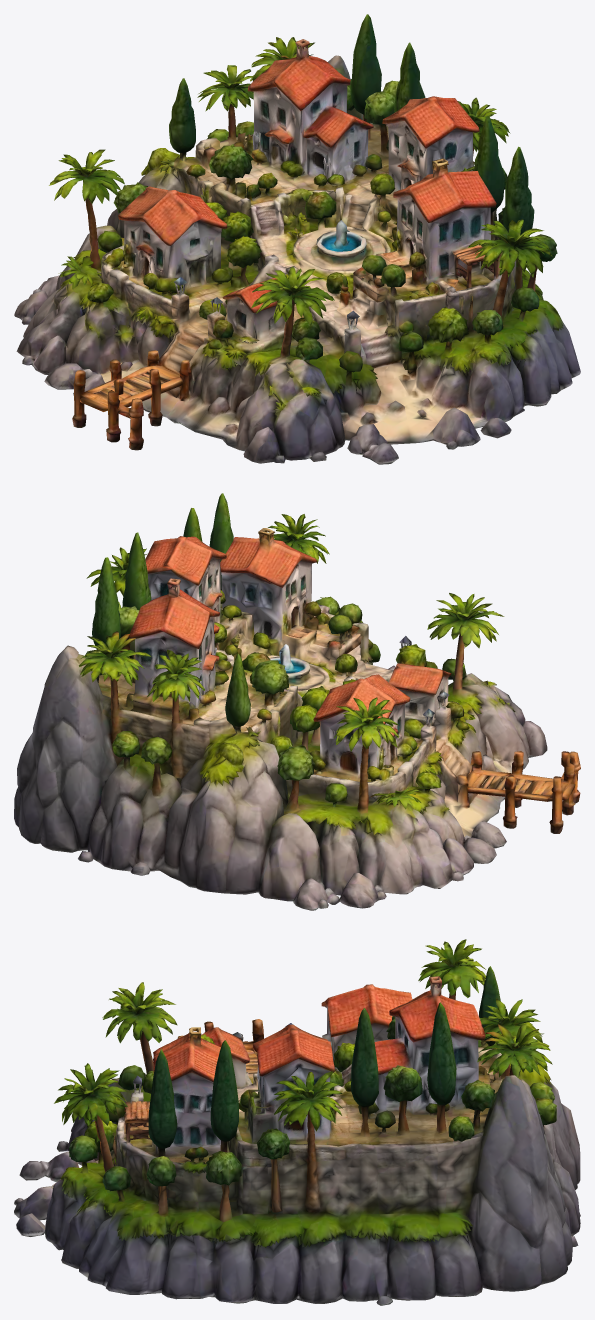
File: pmes.glb
3 renders of one model, top to bottom at view 1: azimuth 30°, elevation 25°; view 2: azimuth 150°, elevation 25°; view 3: azimuth 270°, elevation 25°, orthographic. The views are drawn at different scales.
Parts seen in each view (by area): view 1: tripo_node_68638aaa-e23f-4c51-a818-32deb230cea2; view 2: tripo_node_68638aaa-e23f-4c51-a818-32deb230cea2; view 3: tripo_node_68638aaa-e23f-4c51-a818-32deb230cea2.
Boxes of the visible parts, x1=… form: tripo_node_68638aaa-e23f-4c51-a818-32deb230cea2: x1=14, y1=14, x2=580, y2=464; tripo_node_68638aaa-e23f-4c51-a818-32deb230cea2: x1=14, y1=493, x2=580, y2=910; tripo_node_68638aaa-e23f-4c51-a818-32deb230cea2: x1=14, y1=939, x2=580, y2=1305.
Size of the model in its own units: 0.9494 by 0.5049 by 0.9784.
Materials: 1 (1 with a texture image).
